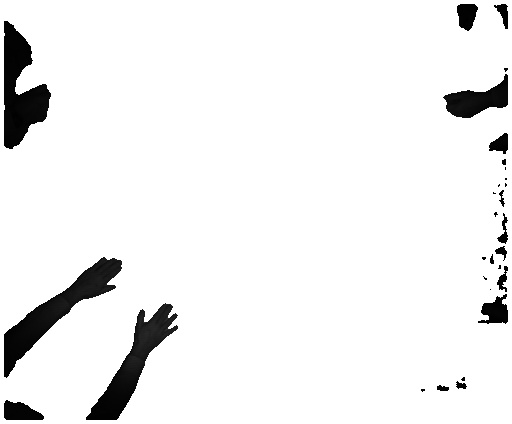fist: (440, 88, 483, 119)
hand: (136, 296, 183, 356), (72, 256, 127, 300)
